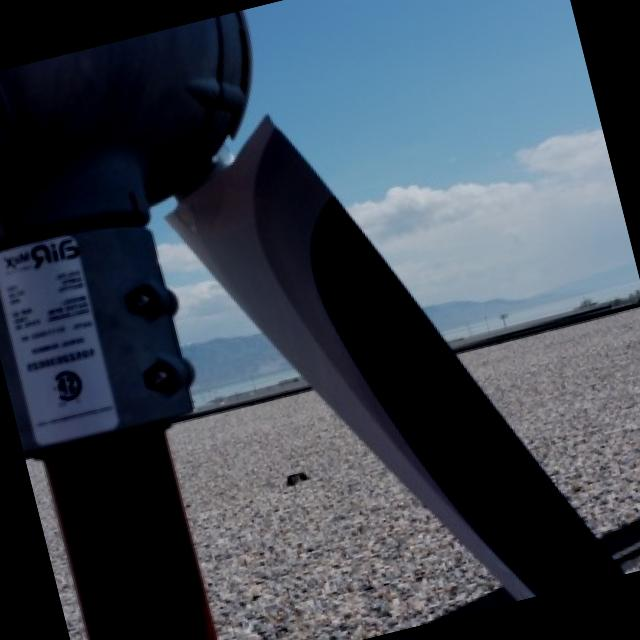healthy: (244, 0, 601, 200)
